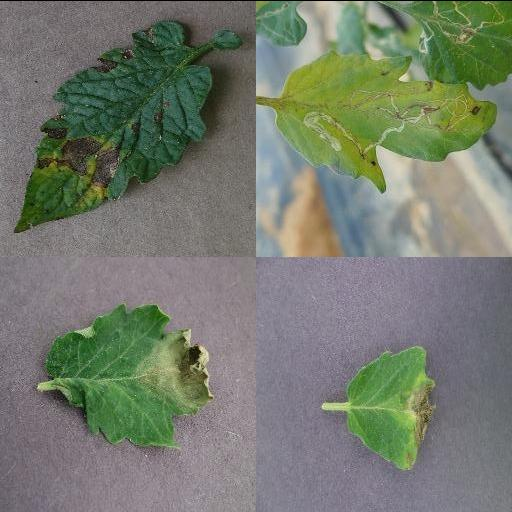Early Blight: (13, 15, 215, 232)
Late Blight: (45, 303, 215, 447), (343, 342, 439, 468)
Leaf Miner: (275, 48, 497, 194)
